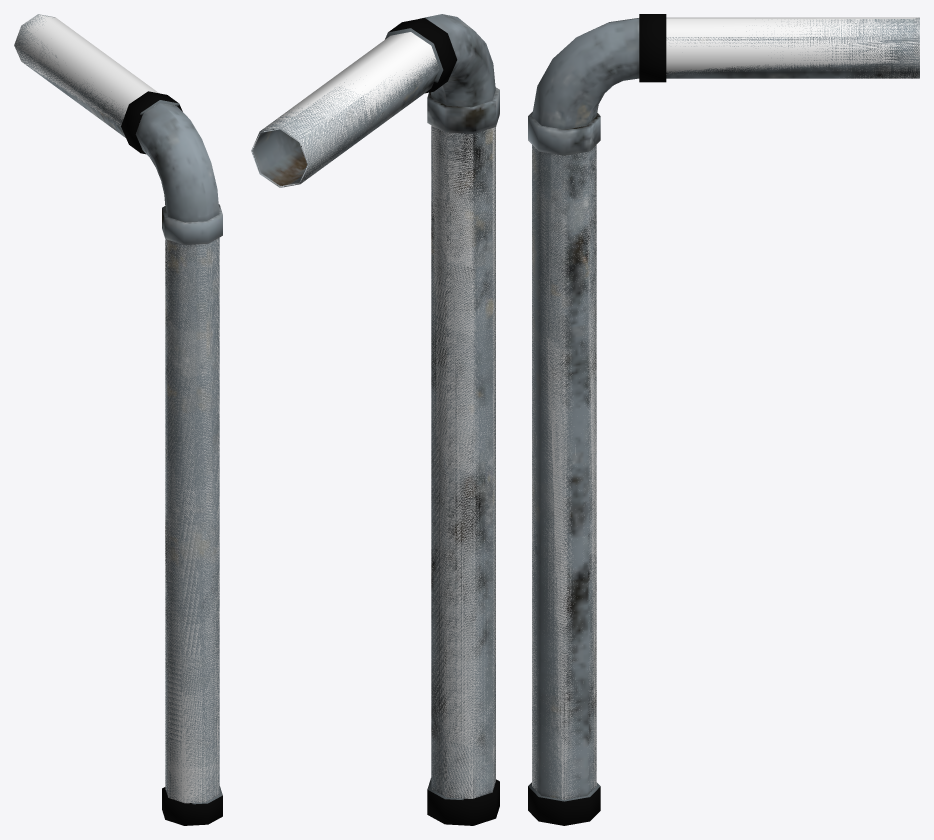
Rendered from objects_un_dlc1_t10pipe01_04.gltf.
3 views of the same model, side by side, from view 1: azimuth 30°, elevation 25°; view 2: azimuth 150°, elevation 25°; view 3: azimuth 270°, elevation 25° (orthographic). The views are drawn at different scales.
Visible parts, largest first — view 1: um_objects_un_dlc1_t10pipe01_04_model_lod0Shape:objects_un_d (×2); view 2: um_objects_un_dlc1_t10pipe01_04_model_lod0Shape:objects_un_d (×2); view 3: um_objects_un_dlc1_t10pipe01_04_model_lod0Shape:objects_un_d (×2).
Part boxes in pixels (left/top/right/bottom): um_objects_un_dlc1_t10pipe01_04_model_lod0Shape:objects_un_d (×2): left=14, top=14, right=222, bottom=825; um_objects_un_dlc1_t10pipe01_04_model_lod0Shape:objects_un_d (×2): left=251, top=14, right=499, bottom=825; um_objects_un_dlc1_t10pipe01_04_model_lod0Shape:objects_un_d (×2): left=528, top=14, right=919, bottom=825.
Size of what is drawn, in the model's own units: 0.1963 by 2.37 by 1.06.
Materials: 2 (1 with a texture image).
